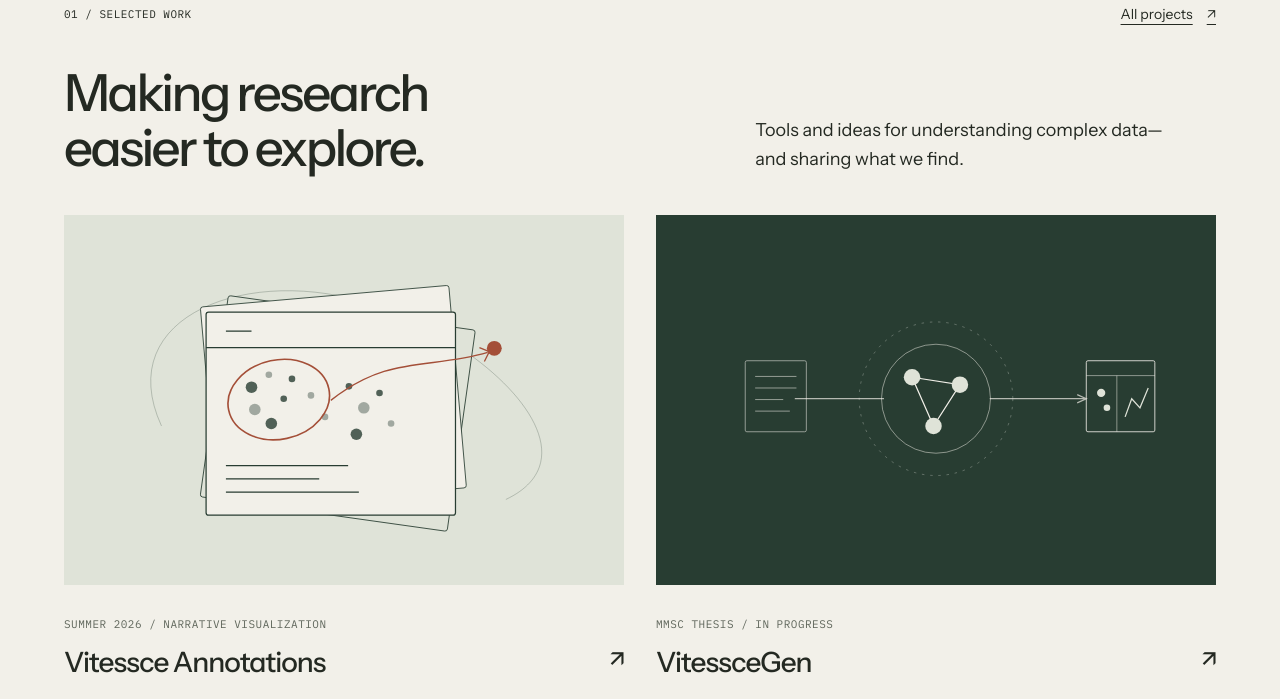
site navigation › connects the homepage, both project stories, and the collection
The image size is (1280, 699).
(page scrolled)
Click the link named "Explore Vitessce Annotations" at (344,400), box [64, 215, 624, 585]
(page scrolled)
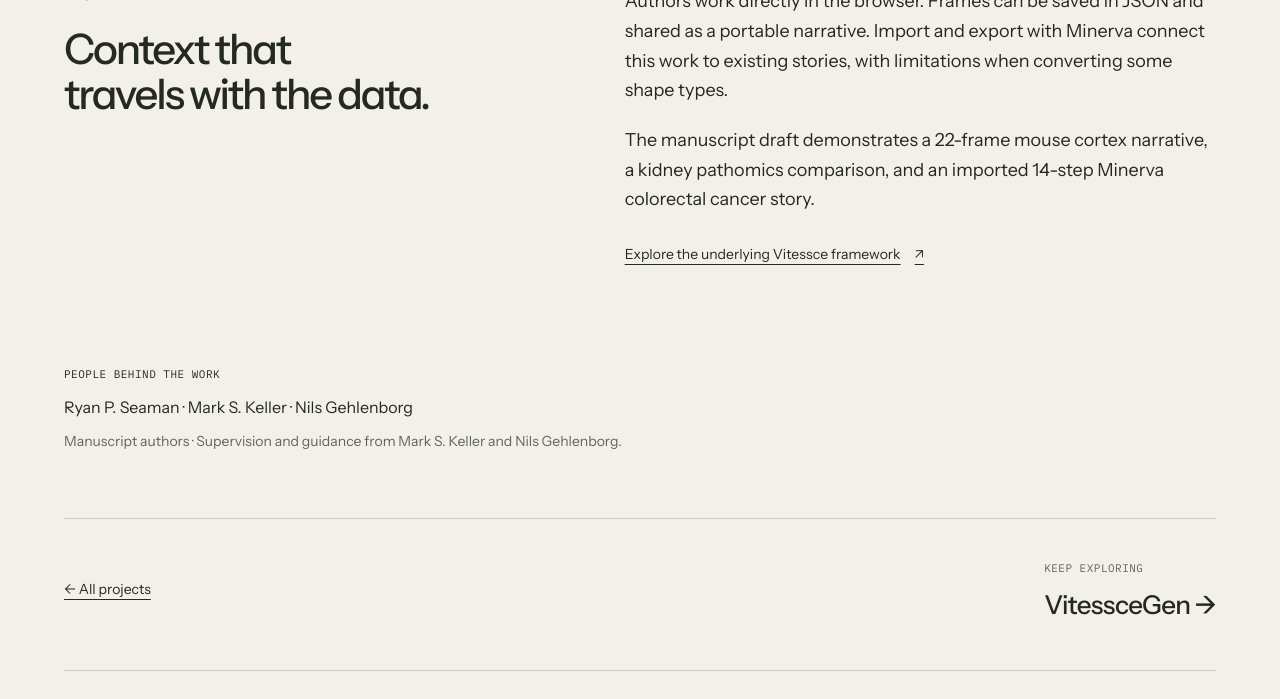
Click the link "Keep exploring VitessceGen →" at (1130,590), box [1044, 554, 1216, 625]
(page scrolled)
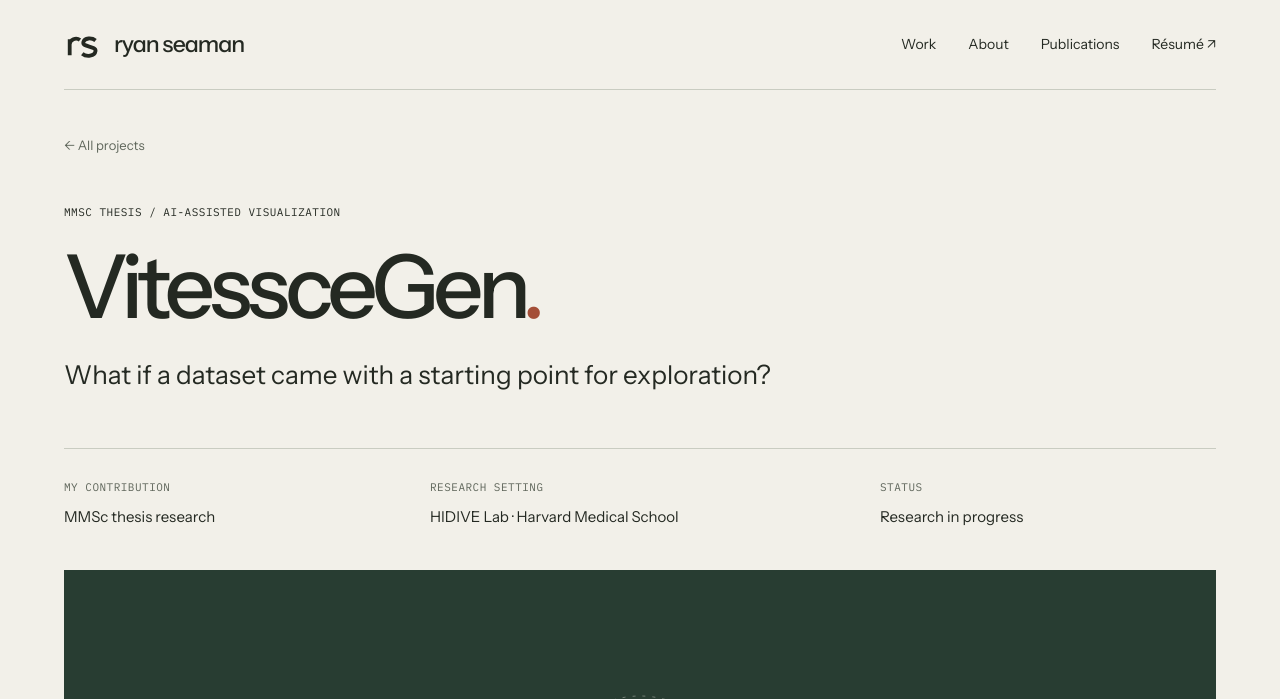
Expected: the heading reads "VitessceGen.", [64, 232, 540, 340]
Click the link "← All projects" at (104,145), box [64, 137, 145, 153]
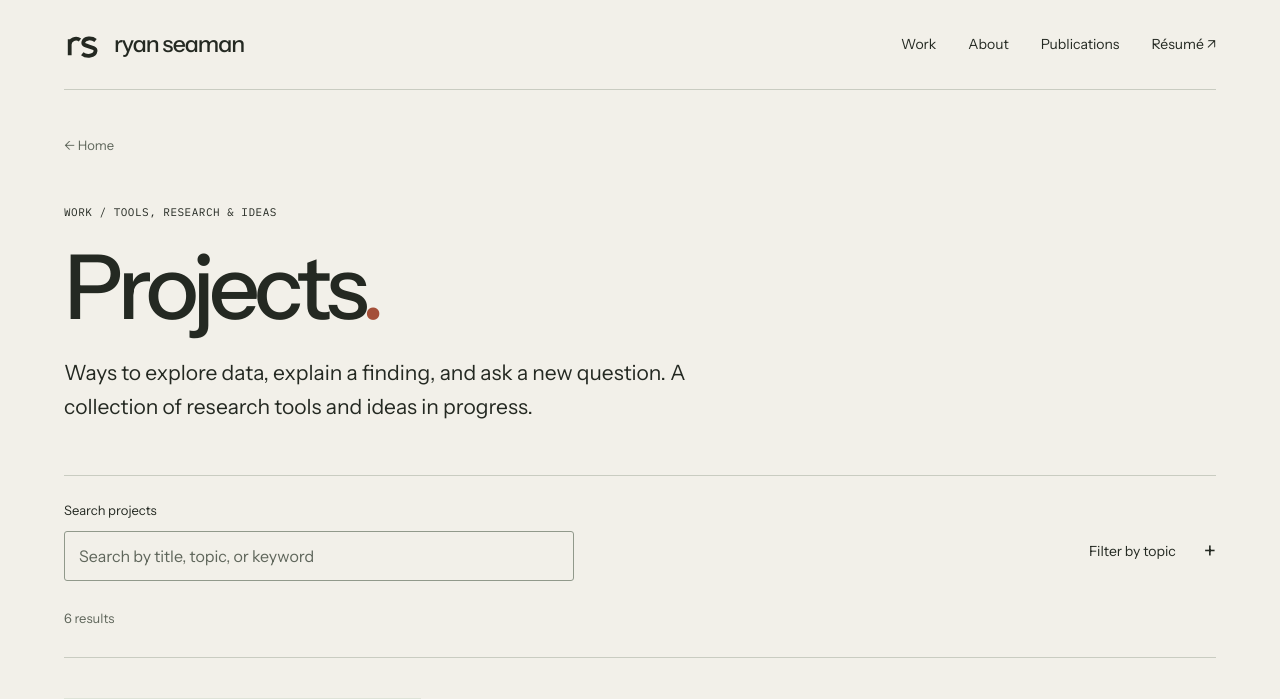
Expected: the field labelled "Search projects" is shown, [64, 531, 574, 581]
